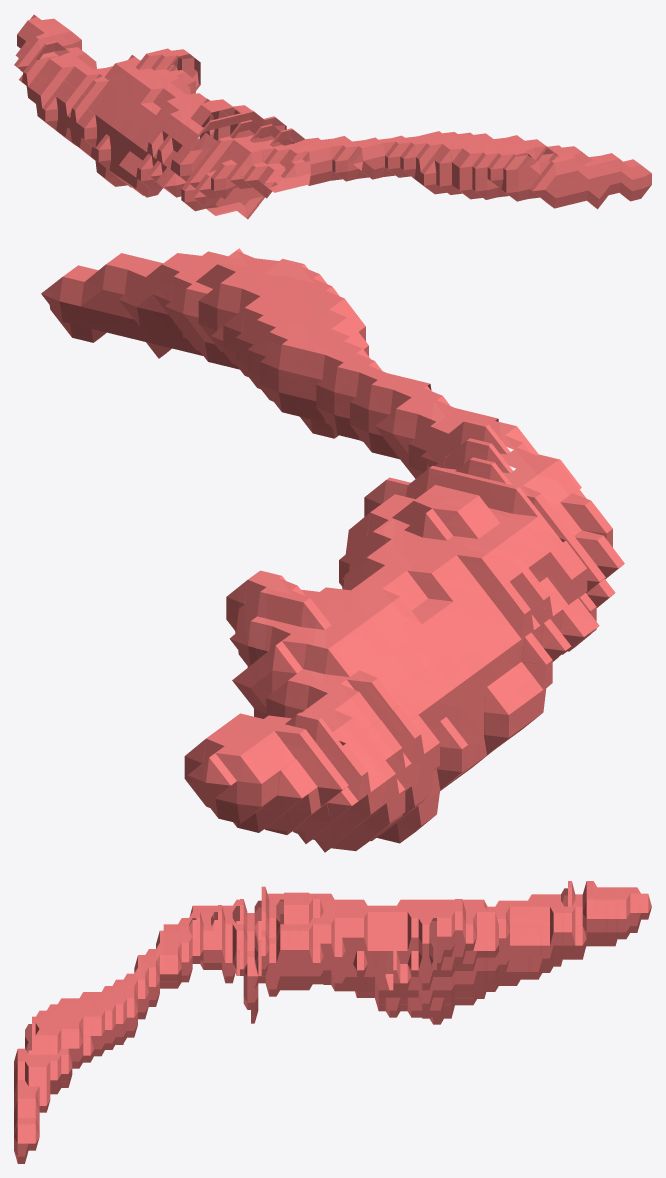
Rendered from SVV_BWM-VR05.gltf.
3 renders of one model, top to bottom at view 1: azimuth 30°, elevation 25°; view 2: azimuth 150°, elevation 25°; view 3: azimuth 270°, elevation 25°, orthographic. The views are drawn at different scales.
Parts seen in each view (by area): view 1: BWM-VR05; view 2: BWM-VR05; view 3: BWM-VR05.
Boxes of the visible parts, x1,y1,x2,y2 form: BWM-VR05: (14,14,651,219); BWM-VR05: (41,248,624,852); BWM-VR05: (14,881,651,1163).
Size of the model in its own units: 18437 by 5113 by 22411.
